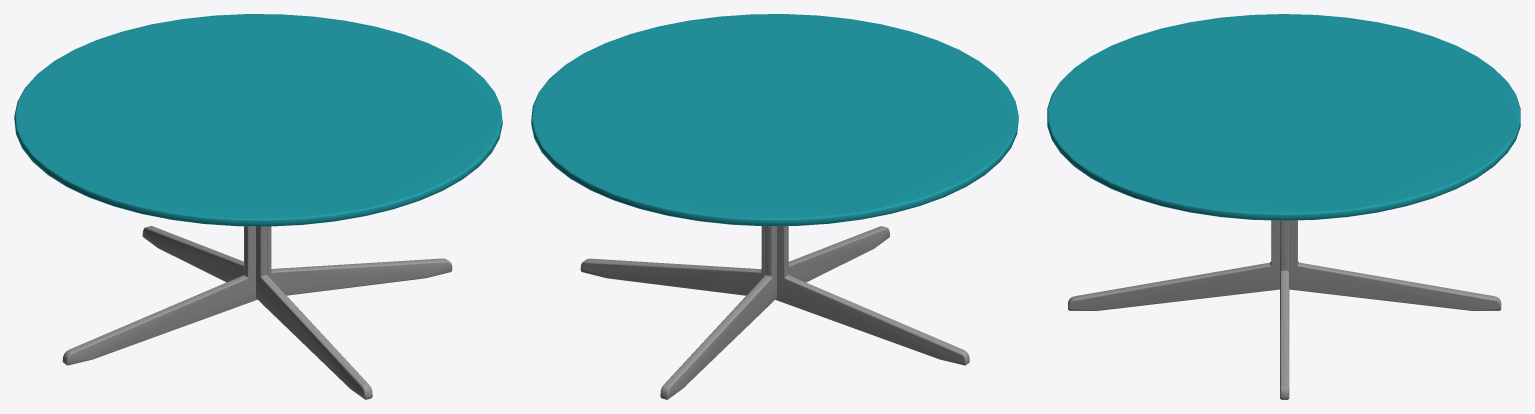
File: Coffee_table.FBX
The picture shows the model from 3 angles, left to right: view 1: azimuth 30°, elevation 25°; view 2: azimuth 150°, elevation 25°; view 3: azimuth 270°, elevation 25°; orthographic projection. The views are drawn at different scales.
Visible parts, largest first — view 1: Coffee_table; view 2: Coffee_table; view 3: Coffee_table.
Part boxes in pixels (box(x1,y1,x2,y2)): Coffee_table: box(14, 14, 502, 399); Coffee_table: box(531, 14, 1018, 399); Coffee_table: box(1047, 14, 1520, 399).
Bounding box in the file's own units: 87.91 × 40.14 × 87.71.
